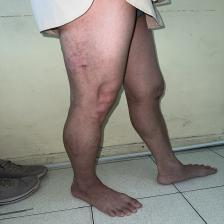DA: (67, 44, 116, 80)
